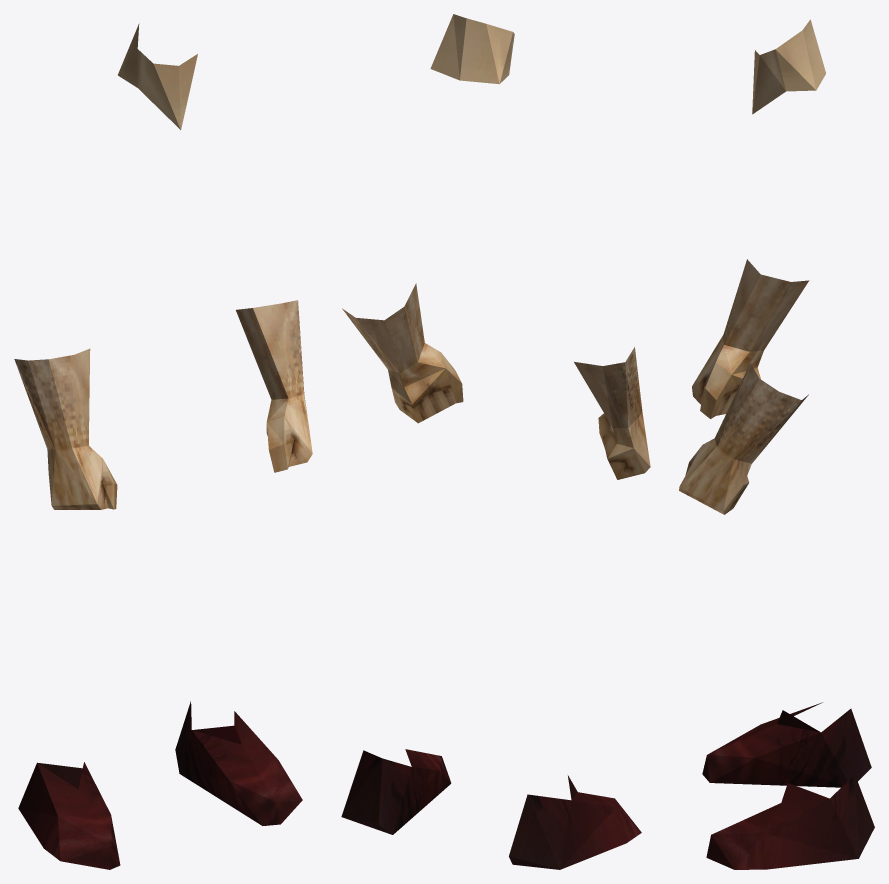
The model's file is Armor_KDF_H.glb.
3 views of the same model, side by side, from view 1: azimuth 30°, elevation 25°; view 2: azimuth 150°, elevation 25°; view 3: azimuth 270°, elevation 25° (orthographic). The views are drawn at different scales.
Parts seen in each view (by area): view 1: Armor_KDF_Hzm_Body; view 2: Armor_KDF_Hzm_Body; view 3: Armor_KDF_Hzm_Body.
Boxes of the visible parts, box(x1,y1,x2,y2) form: Armor_KDF_Hzm_Body: box(14, 23, 312, 869); Armor_KDF_Hzm_Body: box(341, 14, 650, 869); Armor_KDF_Hzm_Body: box(679, 19, 874, 869).
Size of the model in its own units: 0.5999 by 1.66 by 0.367.
2 materials, 2 textured.
